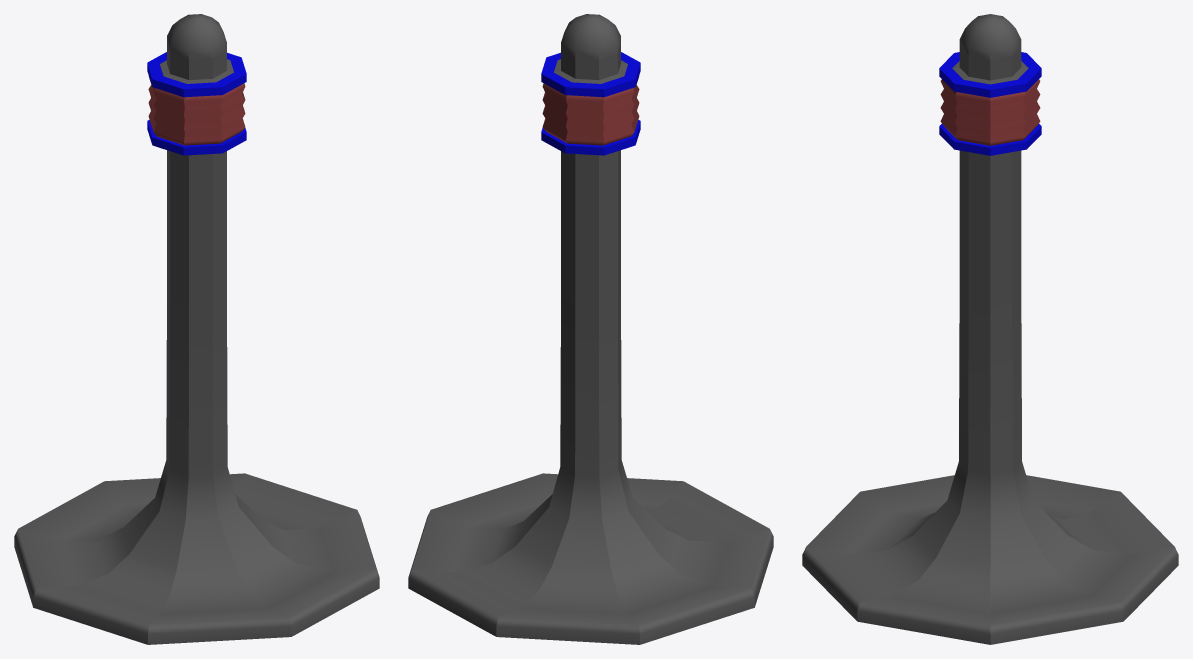
The model's file is Post.fbx.
3 renders of one model, left to right at view 1: azimuth 30°, elevation 25°; view 2: azimuth 150°, elevation 25°; view 3: azimuth 270°, elevation 25°, orthographic.
Visible parts, largest first — view 1: Post; view 2: Post; view 3: Post.
Part boxes in pixels (box(x1,y1,x2,y2)): Post: box(14, 14, 379, 644); Post: box(408, 14, 773, 644); Post: box(802, 14, 1178, 644).
Size of the model in its own units: 2.49 by 4 by 2.49.
